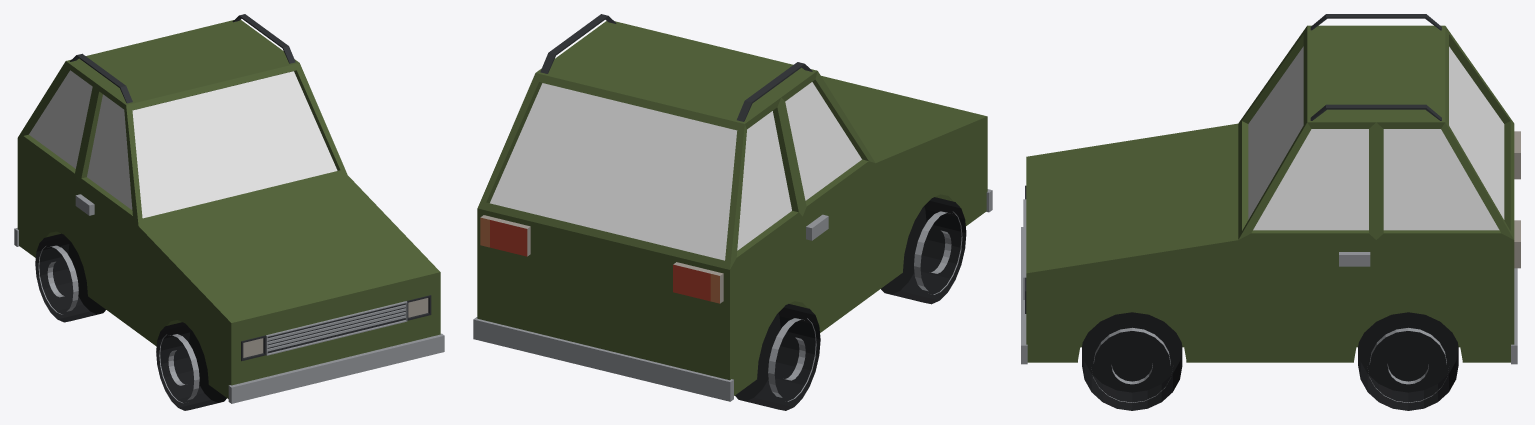
Rendered from SM_car_03.gltf.
3 renders of one model, left to right at view 1: azimuth 30°, elevation 25°; view 2: azimuth 150°, elevation 25°; view 3: azimuth 270°, elevation 25°, orthographic. The views are drawn at different scales.
Visible parts, largest first — view 1: SM_car_03, wheel_002, wheel_004; view 2: SM_car_03, wheel_004, wheel_002; view 3: SM_car_03, wheel_001, wheel_003.
Boxes of the visible parts, x1,y1,x2,y2 form: SM_car_03: (14,14,444,403); wheel_002: (156,322,226,410); wheel_004: (35,233,105,322); SM_car_03: (473,14,992,401); wheel_004: (735,304,820,410); wheel_002: (881,197,966,304); SM_car_03: (1021,14,1520,364); wheel_001: (1082,312,1182,410); wheel_003: (1358,312,1458,410).
Size of the model in its own units: 0.8571 by 0.919 by 1.45.
